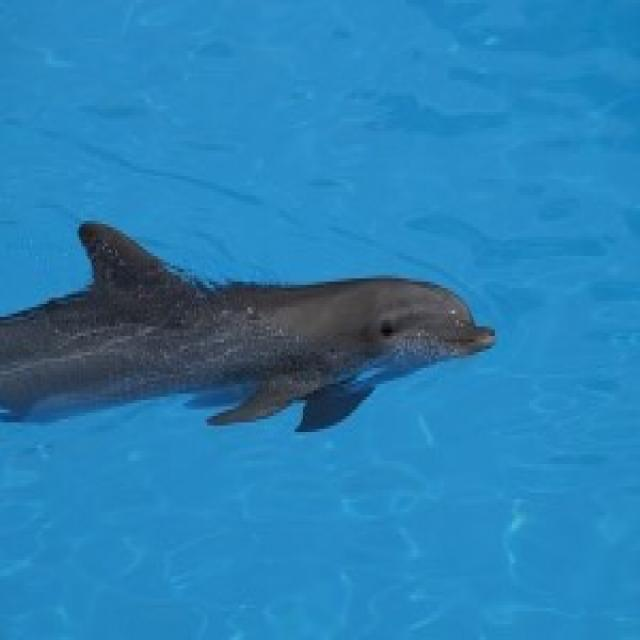Dolphin: (0, 215, 499, 441)
